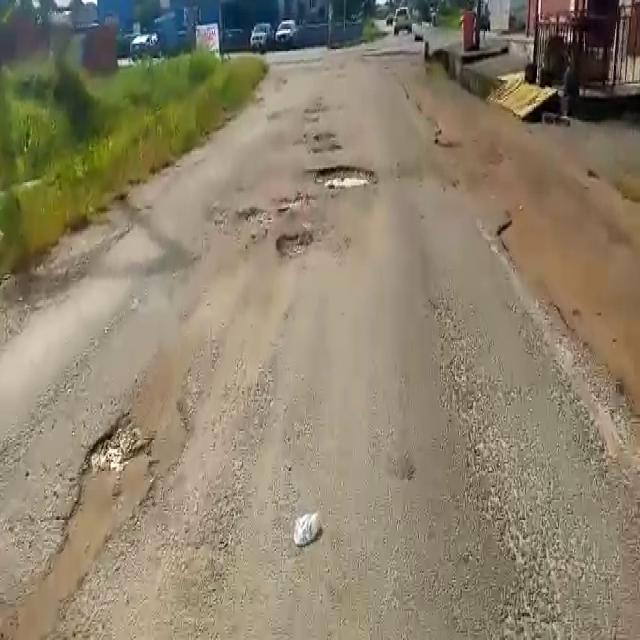pothole: (50, 413, 151, 566), (312, 164, 380, 190), (275, 226, 322, 255), (235, 205, 272, 234), (273, 194, 315, 218)
